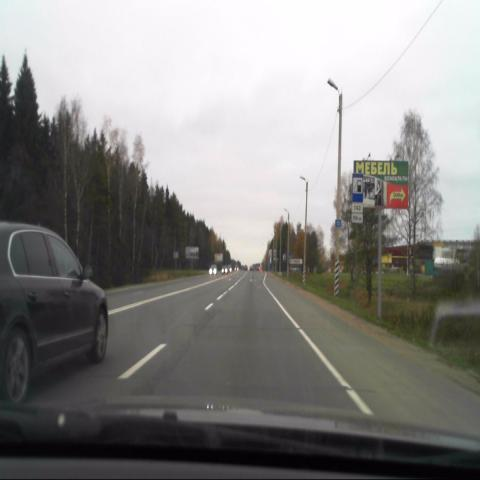7_3: (351, 173, 363, 201)
